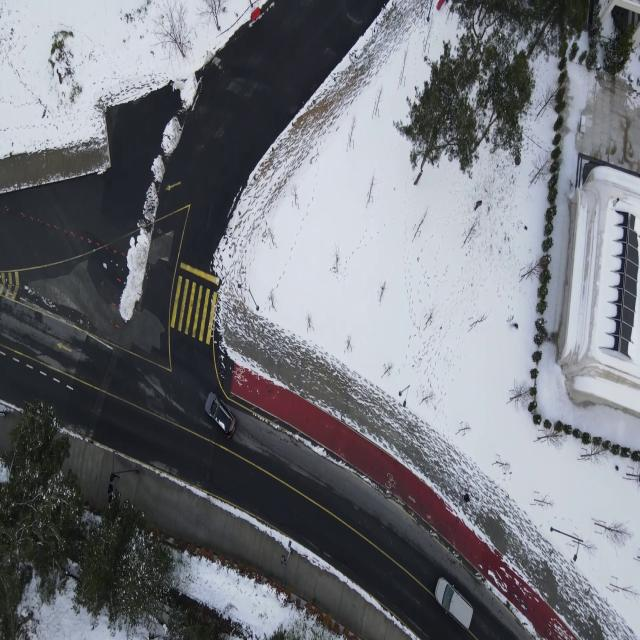p3rson: (473, 198, 482, 211), (110, 471, 120, 482), (461, 491, 470, 503), (280, 554, 287, 565), (108, 482, 114, 493)
